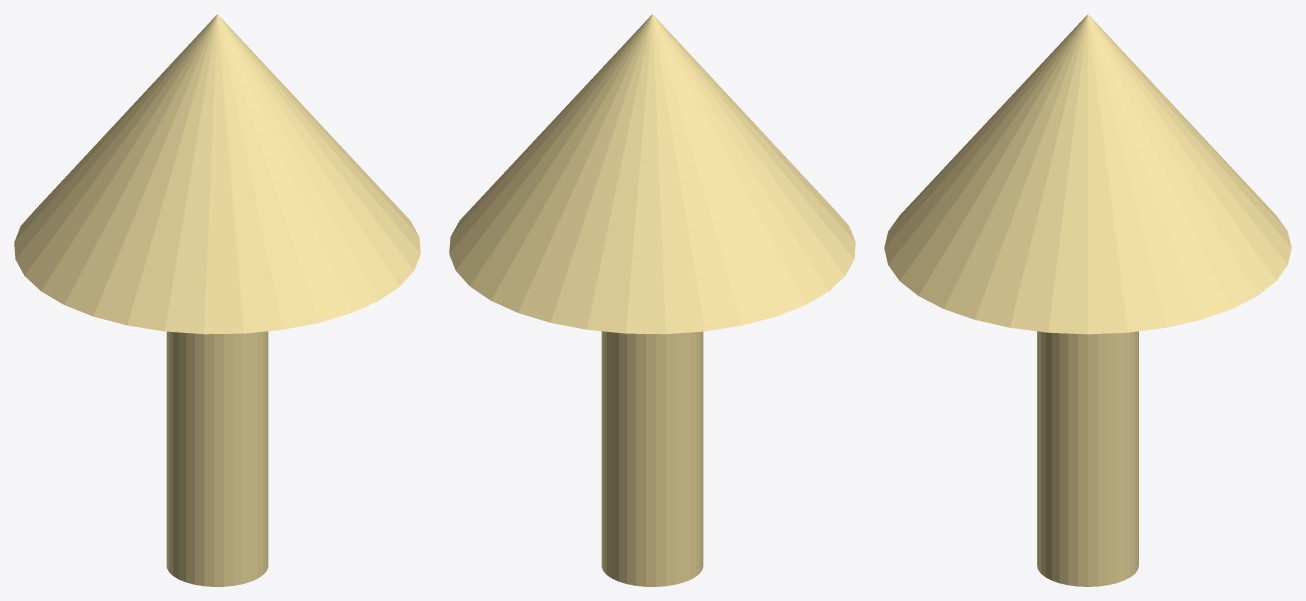
3 renders of one model, left to right at view 1: azimuth 30°, elevation 25°; view 2: azimuth 150°, elevation 25°; view 3: azimuth 270°, elevation 25°, orthographic.
Visible parts, largest first — view 1: Cone, Cylinder; view 2: Cone, Cylinder; view 3: Cone, Cylinder.
Boxes of the visible parts, bbox=[...] form: Cone: bbox=[14, 14, 420, 334]; Cylinder: bbox=[166, 331, 268, 586]; Cone: bbox=[449, 14, 855, 334]; Cylinder: bbox=[601, 331, 703, 586]; Cone: bbox=[884, 14, 1291, 334]; Cylinder: bbox=[1037, 331, 1138, 586].
Bounding box in the file's own units: 2 × 2.99 × 2.
